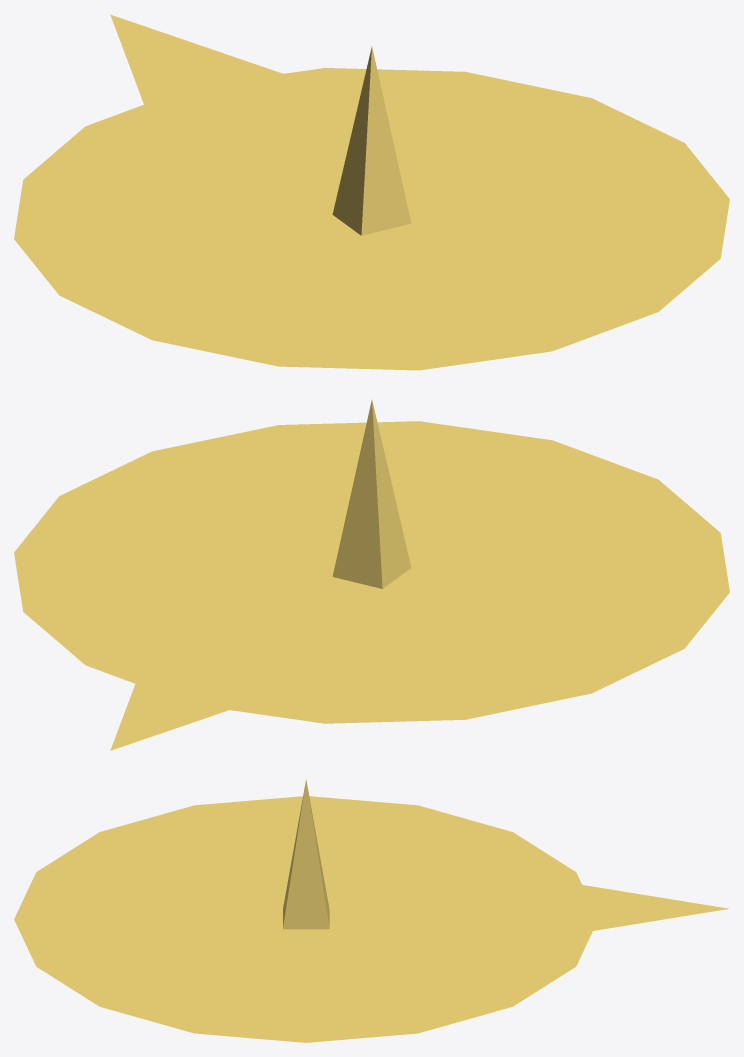
File: origin.glb
3 renders of one model, top to bottom at view 1: azimuth 30°, elevation 25°; view 2: azimuth 150°, elevation 25°; view 3: azimuth 270°, elevation 25°, orthographic. The views are drawn at different scales.
Bounding box in the file's own units: 2 × 0.53 × 2.45.
